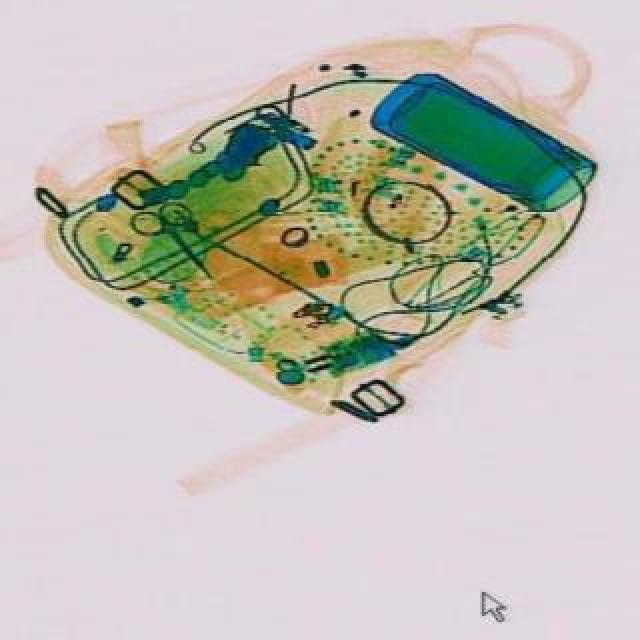pliers: (124, 188, 232, 294)
